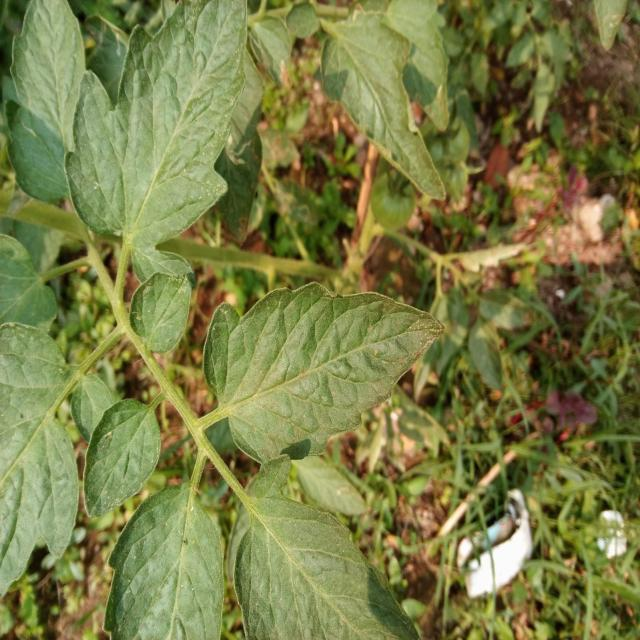Healthy: (188, 252, 464, 477), (51, 0, 261, 262), (234, 457, 417, 639), (0, 323, 78, 594), (104, 483, 224, 639), (76, 392, 169, 527), (121, 263, 198, 357)
